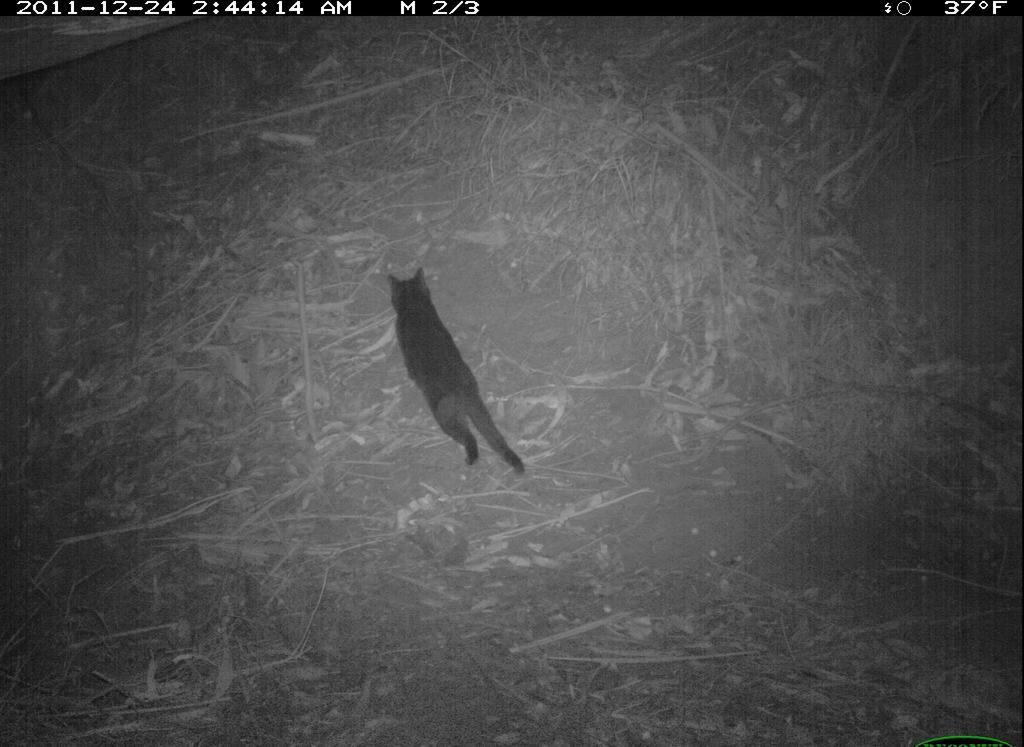cat: (382, 258, 533, 483)
